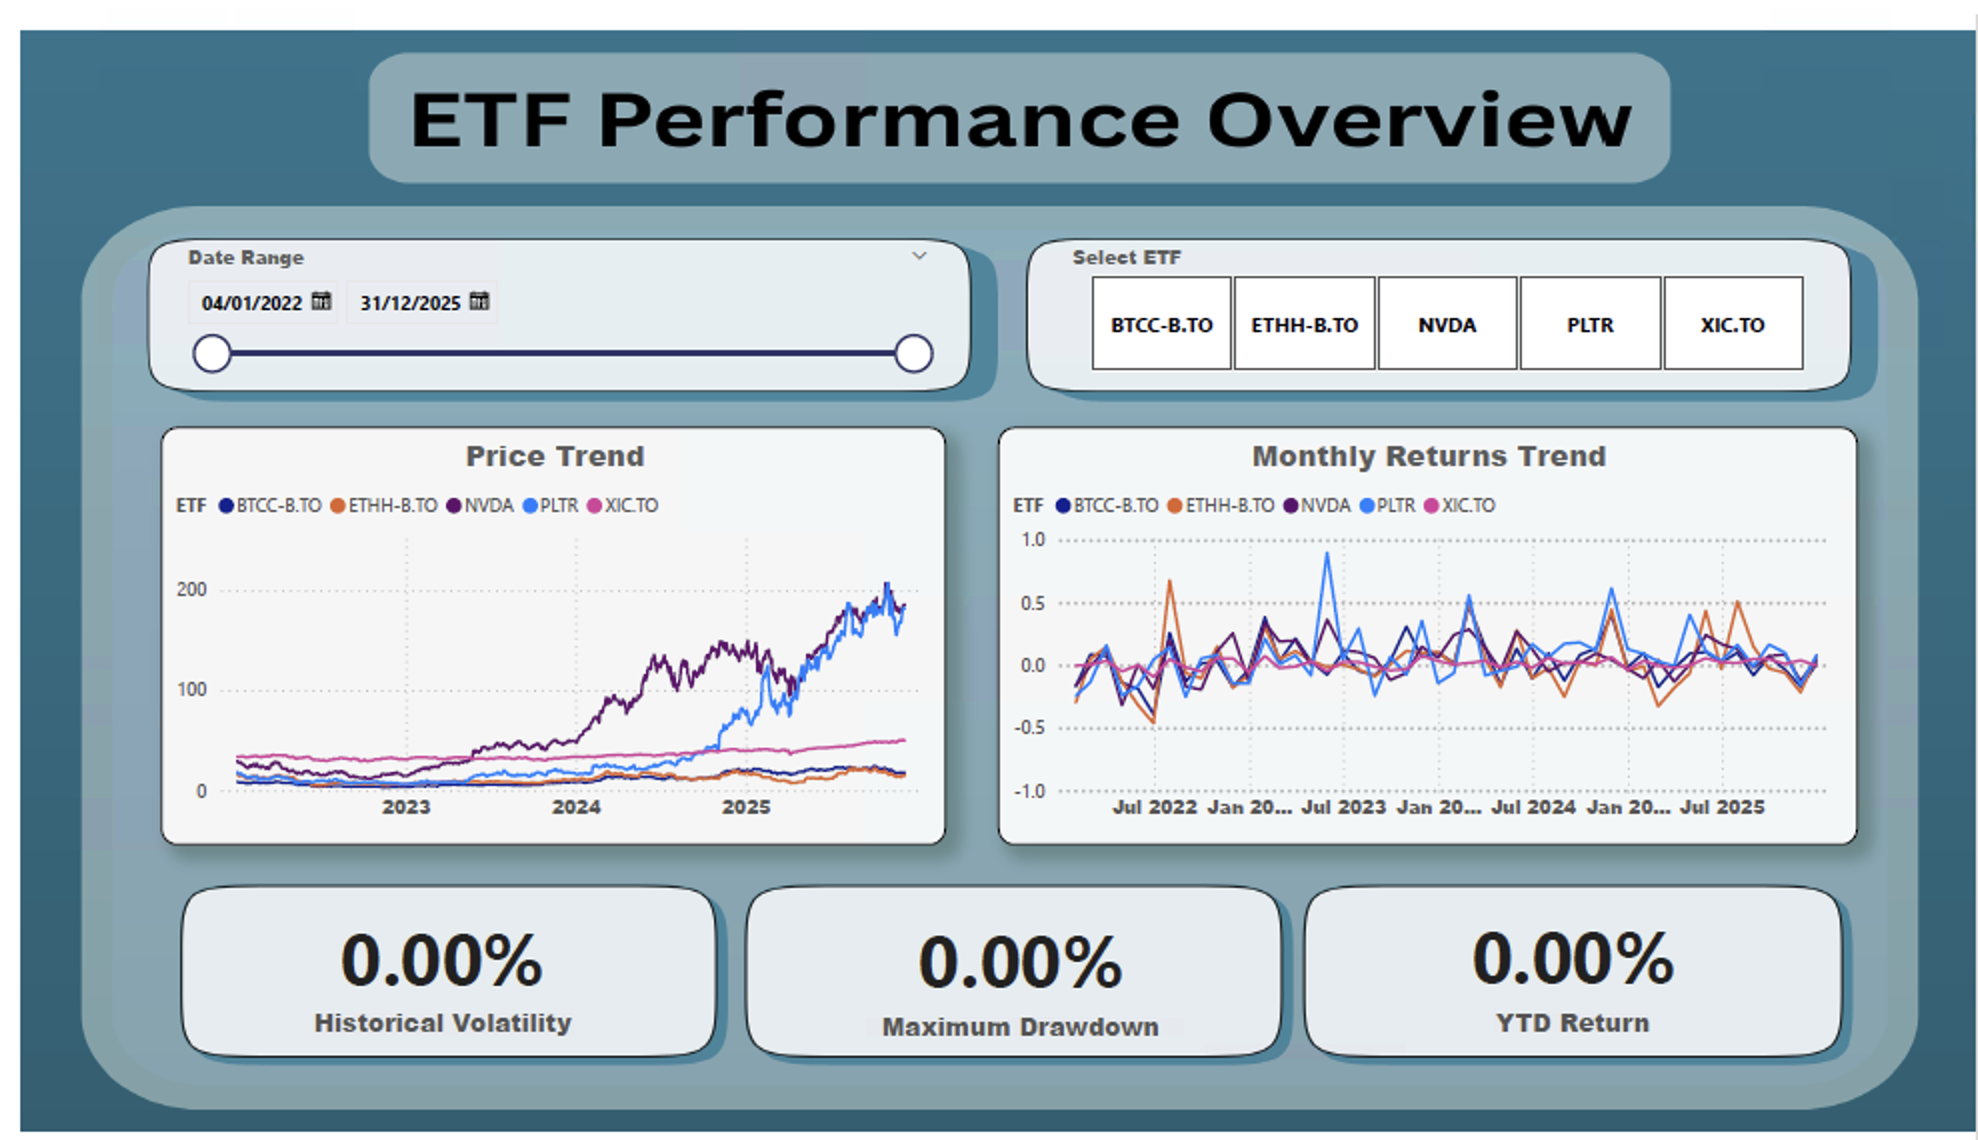

Layout of this report page (visuals, bound fields, positions):
{"tool":"powerbi","page":{"name":"Overview","canvas":[1280,720],"ordinal":0},"visuals":[{"type":"slicer","fields":{"Values":["Sheet1.ETF"]},"box":[675.4,133.9,514.5,95.1],"z":0},{"type":"slicer","fields":{"Values":["clean.Date"]},"box":[96.3,133.9,508.6,115.1],"z":1000},{"type":"card","fields":{"Values":["Sheet1.YTD_Return_KPI"]},"box":[922.5,557.4,185.8,117.9],"z":2000},{"type":"card","fields":{"Values":["Sheet1.Volatility_KPI"]},"box":[162.7,551,225.5,130.7],"z":3000},{"type":"card","fields":{"Values":["Sheet1.Drawdown_KPI"]},"box":[545.8,554.8,216.5,126.8],"z":4000},{"type":"lineChart","title":"Price Trend","fields":{"Y":["Avg(clean.MetricValue)"],"Series":["clean.ETF"],"Category":["clean.Date"]},"box":[90.9,258.8,514.5,274.2],"z":5000},{"type":"lineChart","title":"Monthly Returns Trend ","fields":{"Series":["clean.ETF"],"Y":["Avg(clean.MetricValue)"],"Category":["clean.Date"]},"box":[639.4,258.8,562.5,274.2],"z":6000}]}

Visuals, with their boxes in screenshot pixels (x1, y1, x2, y2), scaled from the page's 1280x720 canvas onto the 1978x1140 screenshot:
slicer - Sheet1.ETF: [left=1044, top=212, right=1839, bottom=363]
slicer - clean.Date: [left=149, top=212, right=935, bottom=394]
card - Sheet1.YTD_Return_KPI: [left=1426, top=883, right=1713, bottom=1069]
card - Sheet1.Volatility_KPI: [left=251, top=872, right=600, bottom=1079]
card - Sheet1.Drawdown_KPI: [left=843, top=878, right=1178, bottom=1079]
"Price Trend" lineChart: [left=140, top=410, right=936, bottom=844]
"Monthly Returns Trend " lineChart: [left=988, top=410, right=1857, bottom=844]
